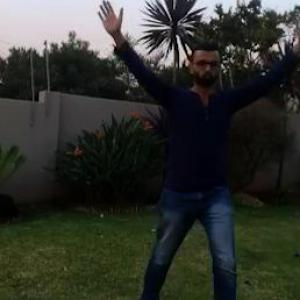takeoff: (88, 7, 299, 299)
